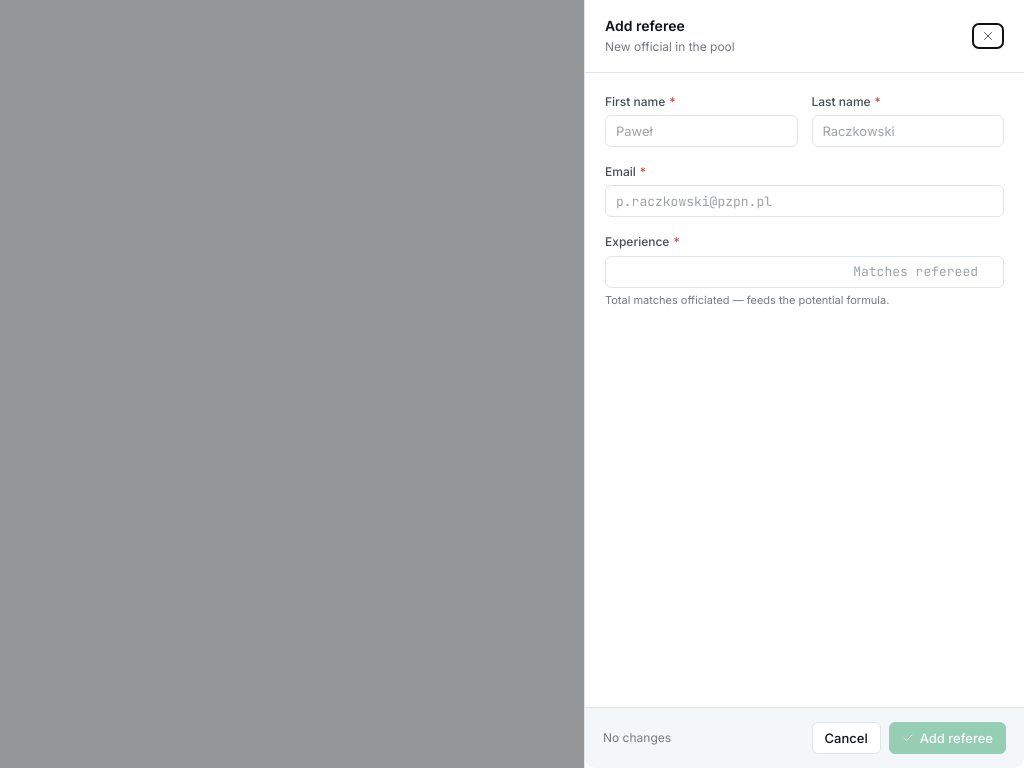
Scenario: RefereeFormComponent › shows validation errors only after a field is touched or dirtied
This screenshot has width=1024, height=768.
Type "J" into the field with id "firstName" at [701, 131], box [605,115,798,147]
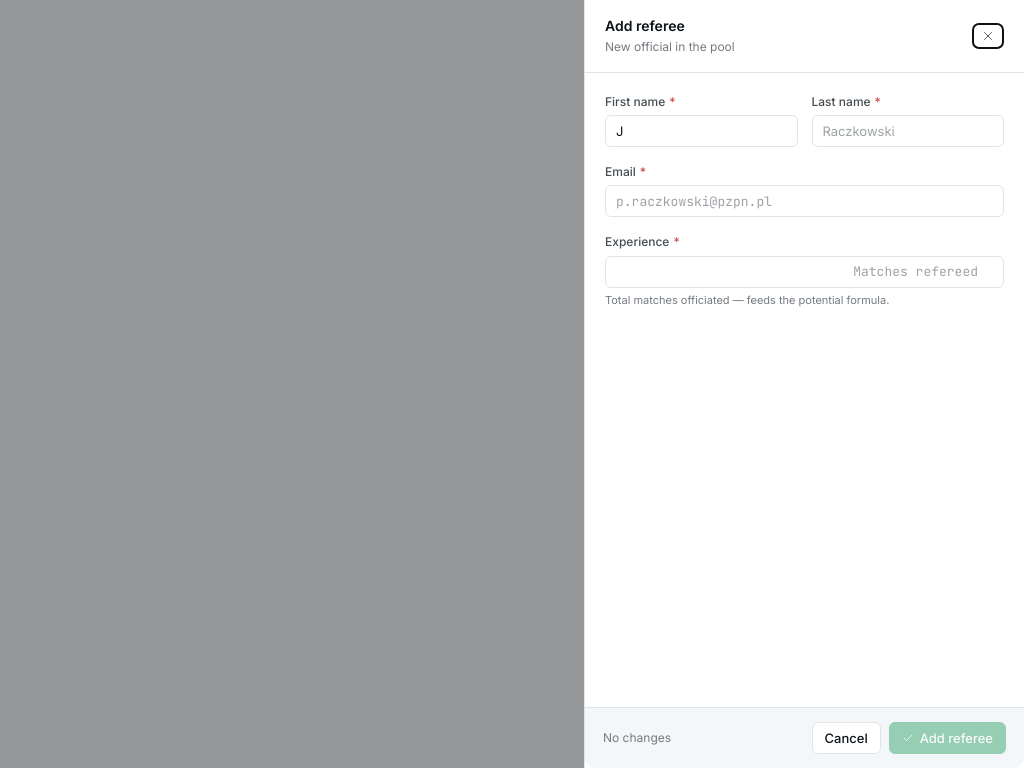
Clear the field with id "firstName" at [701, 131], box [605,115,798,147]
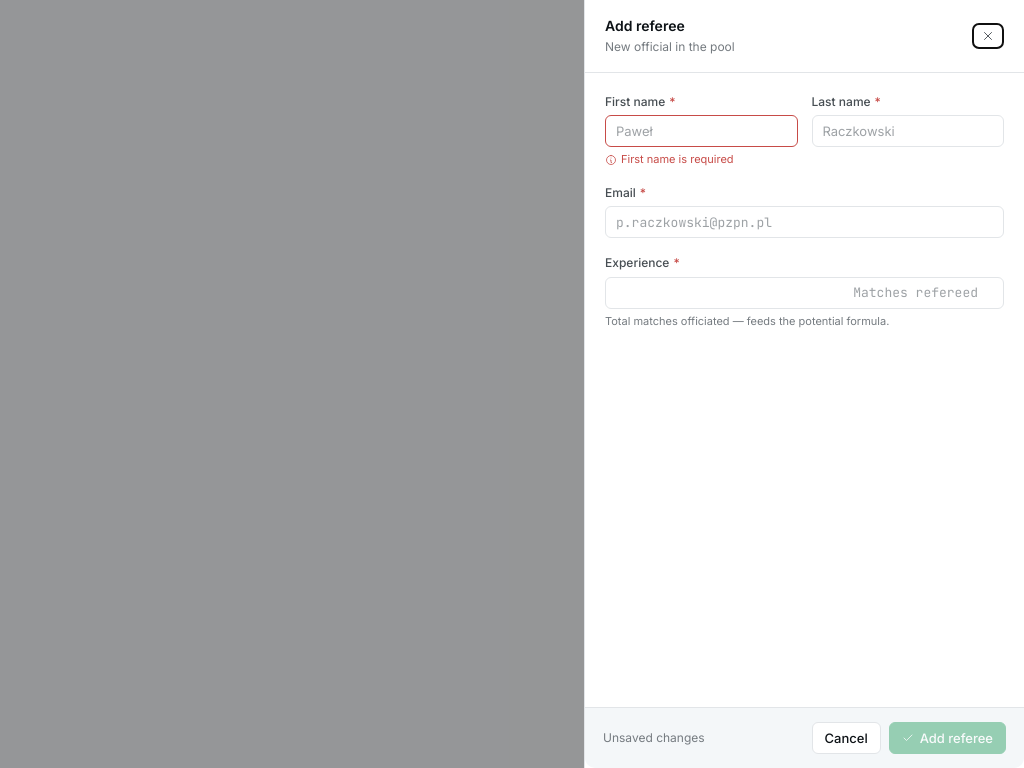
Check: the number of elements with class "err" is 1, box [605,152,734,166]
Check: the element with class "err" reads "First name is required", box [621,152,734,166]
